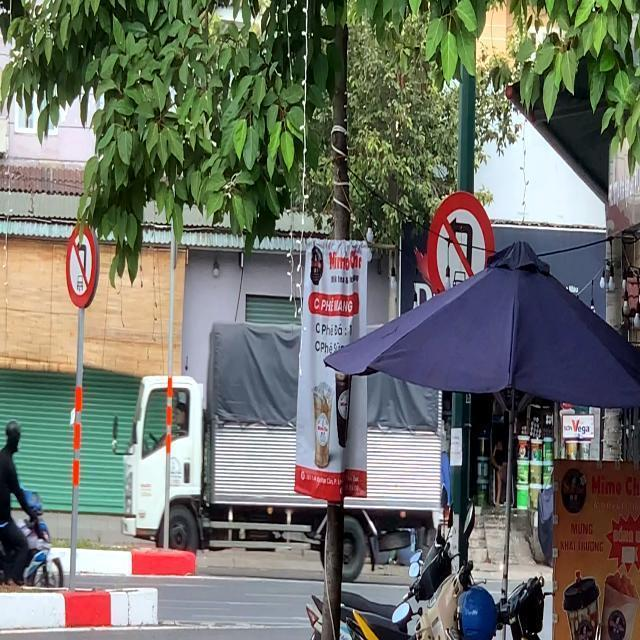123a-cam-re-trai: (430, 190, 497, 304), (61, 221, 102, 308)
